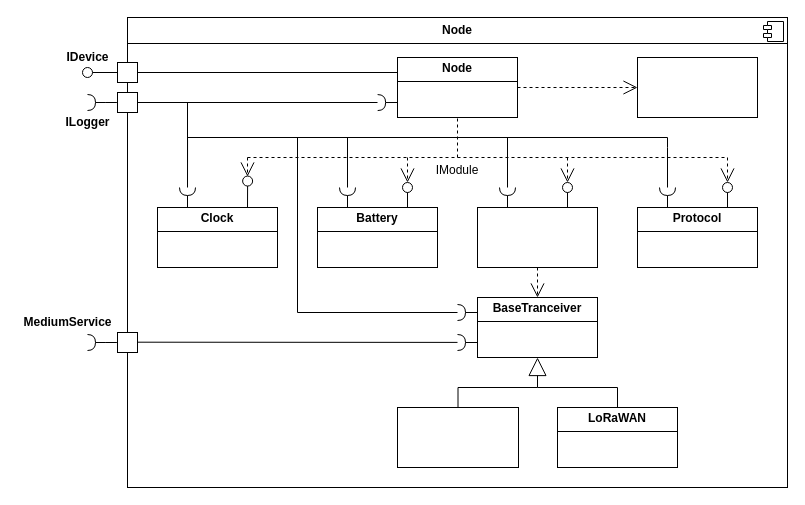
This 805x505 diagram has some shape labels left out. Each missing label, with the centre of its shape:
"LocalEventQueue" goes at (x=697, y=87).
"LoRaD2D" goes at (x=457, y=437).
"TranceiverService" goes at (x=537, y=237).
